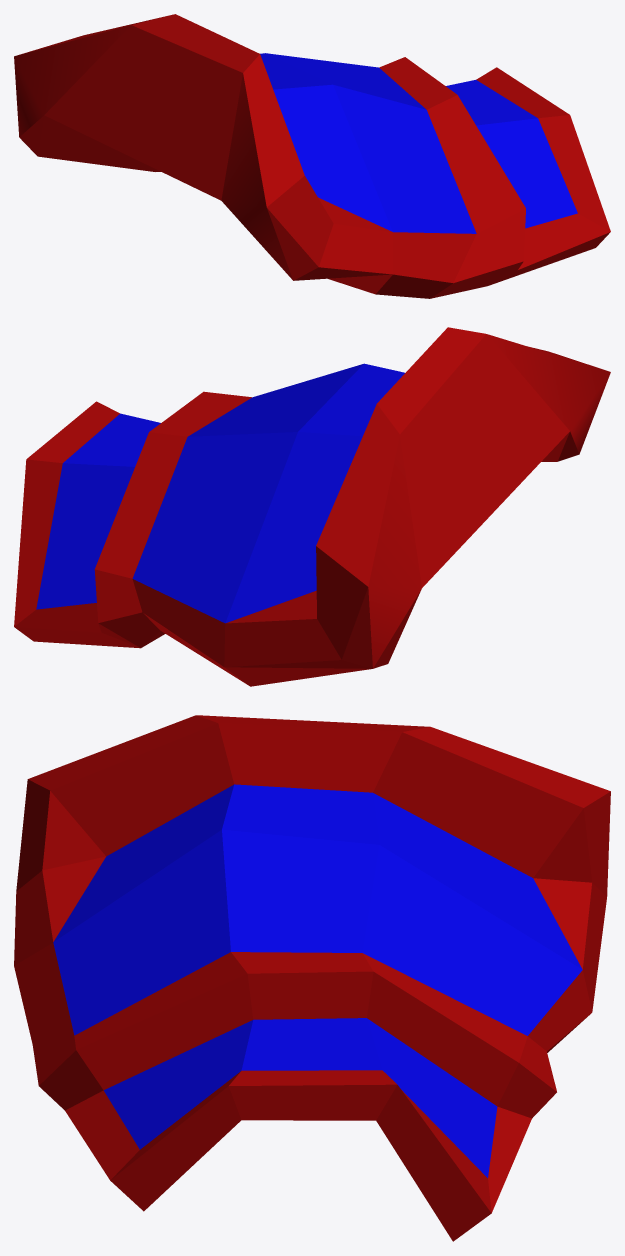
The model's file is Chr_ShoulderAttachLeft_Static_15.fbx.
3 renders of one model, top to bottom at view 1: azimuth 30°, elevation 25°; view 2: azimuth 150°, elevation 25°; view 3: azimuth 270°, elevation 25°, orthographic. The views are drawn at different scales.
Visible parts, largest first — view 1: Chr_ShoulderAttachLeft_15; view 2: Chr_ShoulderAttachLeft_15; view 3: Chr_ShoulderAttachLeft_15.
Part boxes in pixels (box(x1,y1,x2,y2)): Chr_ShoulderAttachLeft_15: box(14, 14, 610, 298); Chr_ShoulderAttachLeft_15: box(14, 327, 610, 686); Chr_ShoulderAttachLeft_15: box(14, 715, 610, 1241).
Size of the model in its own units: 27.44 by 18.11 by 28.
